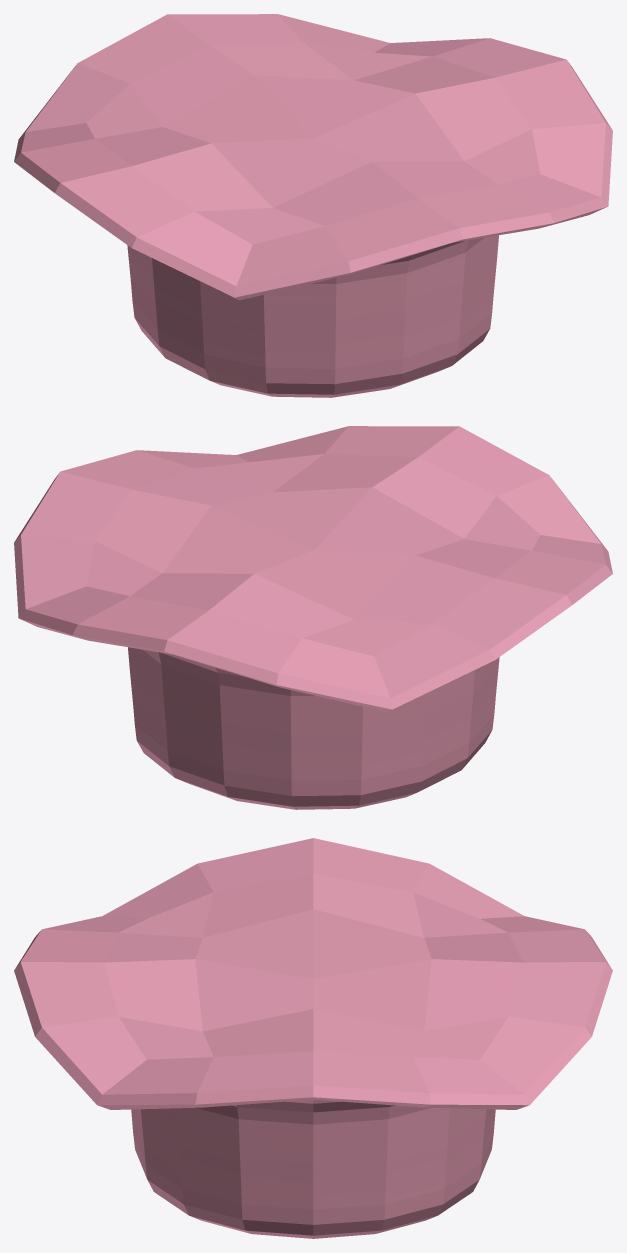
The model's file is BedCoral.fbx.
3 renders of one model, top to bottom at view 1: azimuth 30°, elevation 25°; view 2: azimuth 150°, elevation 25°; view 3: azimuth 270°, elevation 25°, orthographic.
Parts seen in each view (by area): view 1: Cube_LOD0; view 2: Cube_LOD0; view 3: Cube_LOD0.
Part boxes in pixels (x1,y1,x2,y2): Cube_LOD0: (14, 14, 612, 397); Cube_LOD0: (14, 426, 612, 809); Cube_LOD0: (14, 838, 612, 1238).
Size of what is drawn, in the model's own units: 307 by 130 by 307.
